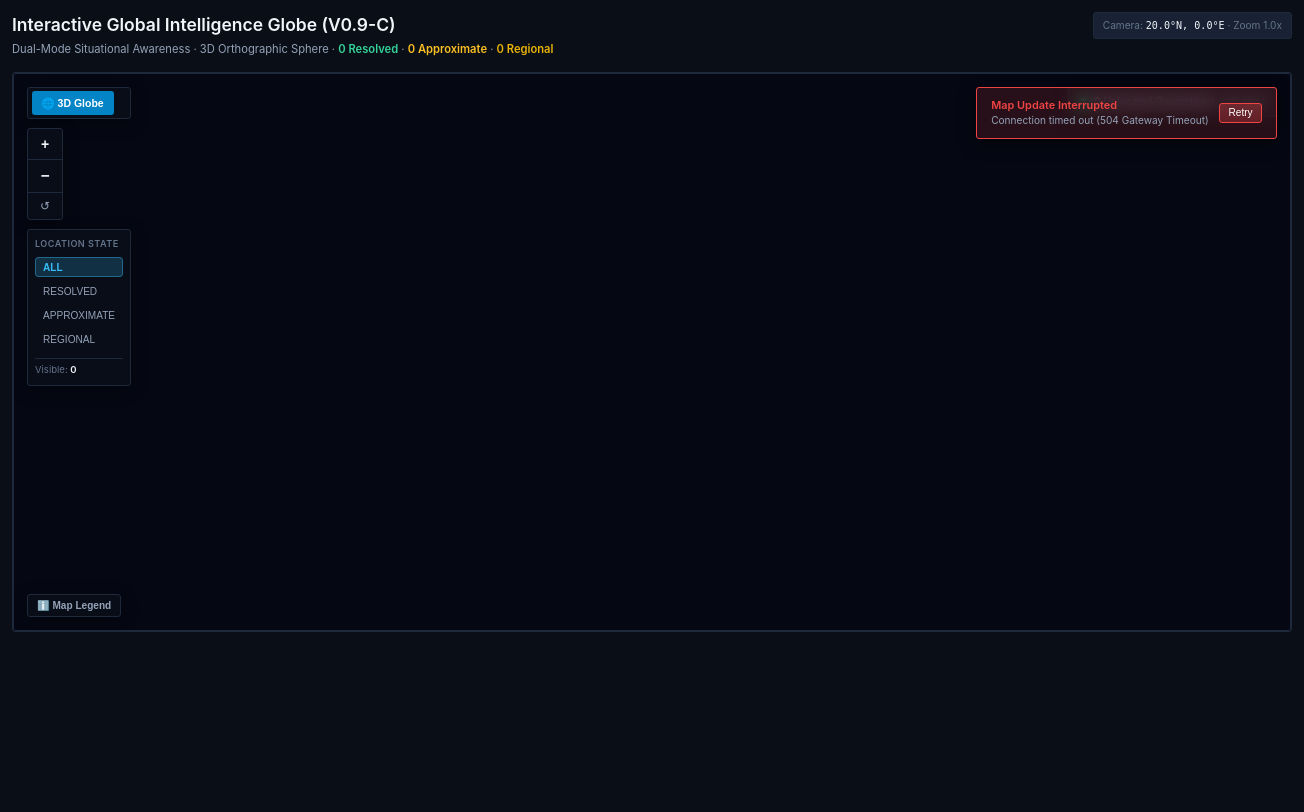
GeoMapView Component Suite (V0.9-C) › renders non-fatal error banner with Retry button upon API failure
Expected: the text "Map Update Interrupted" is shown, [991,98,1117,112]
Expected: the text "Connection timed out (504 Gateway Timeout)" is shown, [991,113,1209,128]
Step 1. Click the button "Retry" → (1241, 113), box [1219,103,1262,123]
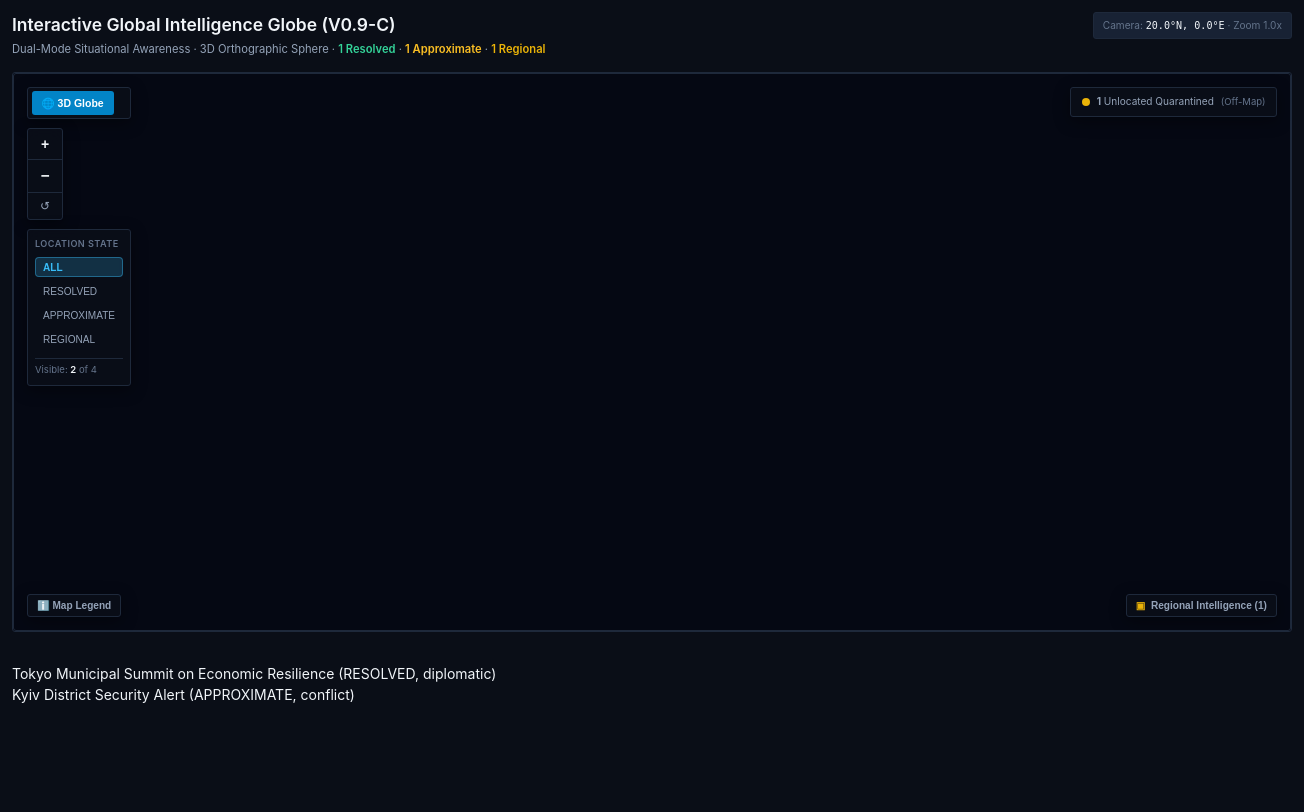
Expected: the text "1 Resolved" is shown, [338,42,396,56]
